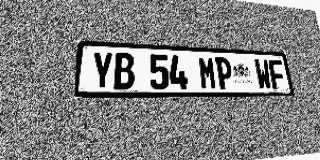4: (168, 55, 188, 90)
5: (149, 54, 170, 90)
B: (114, 52, 135, 90)
F: (268, 59, 287, 89)
M: (198, 56, 218, 90)
P: (215, 57, 234, 90)
W: (254, 59, 273, 89)
Y: (91, 51, 113, 90)
